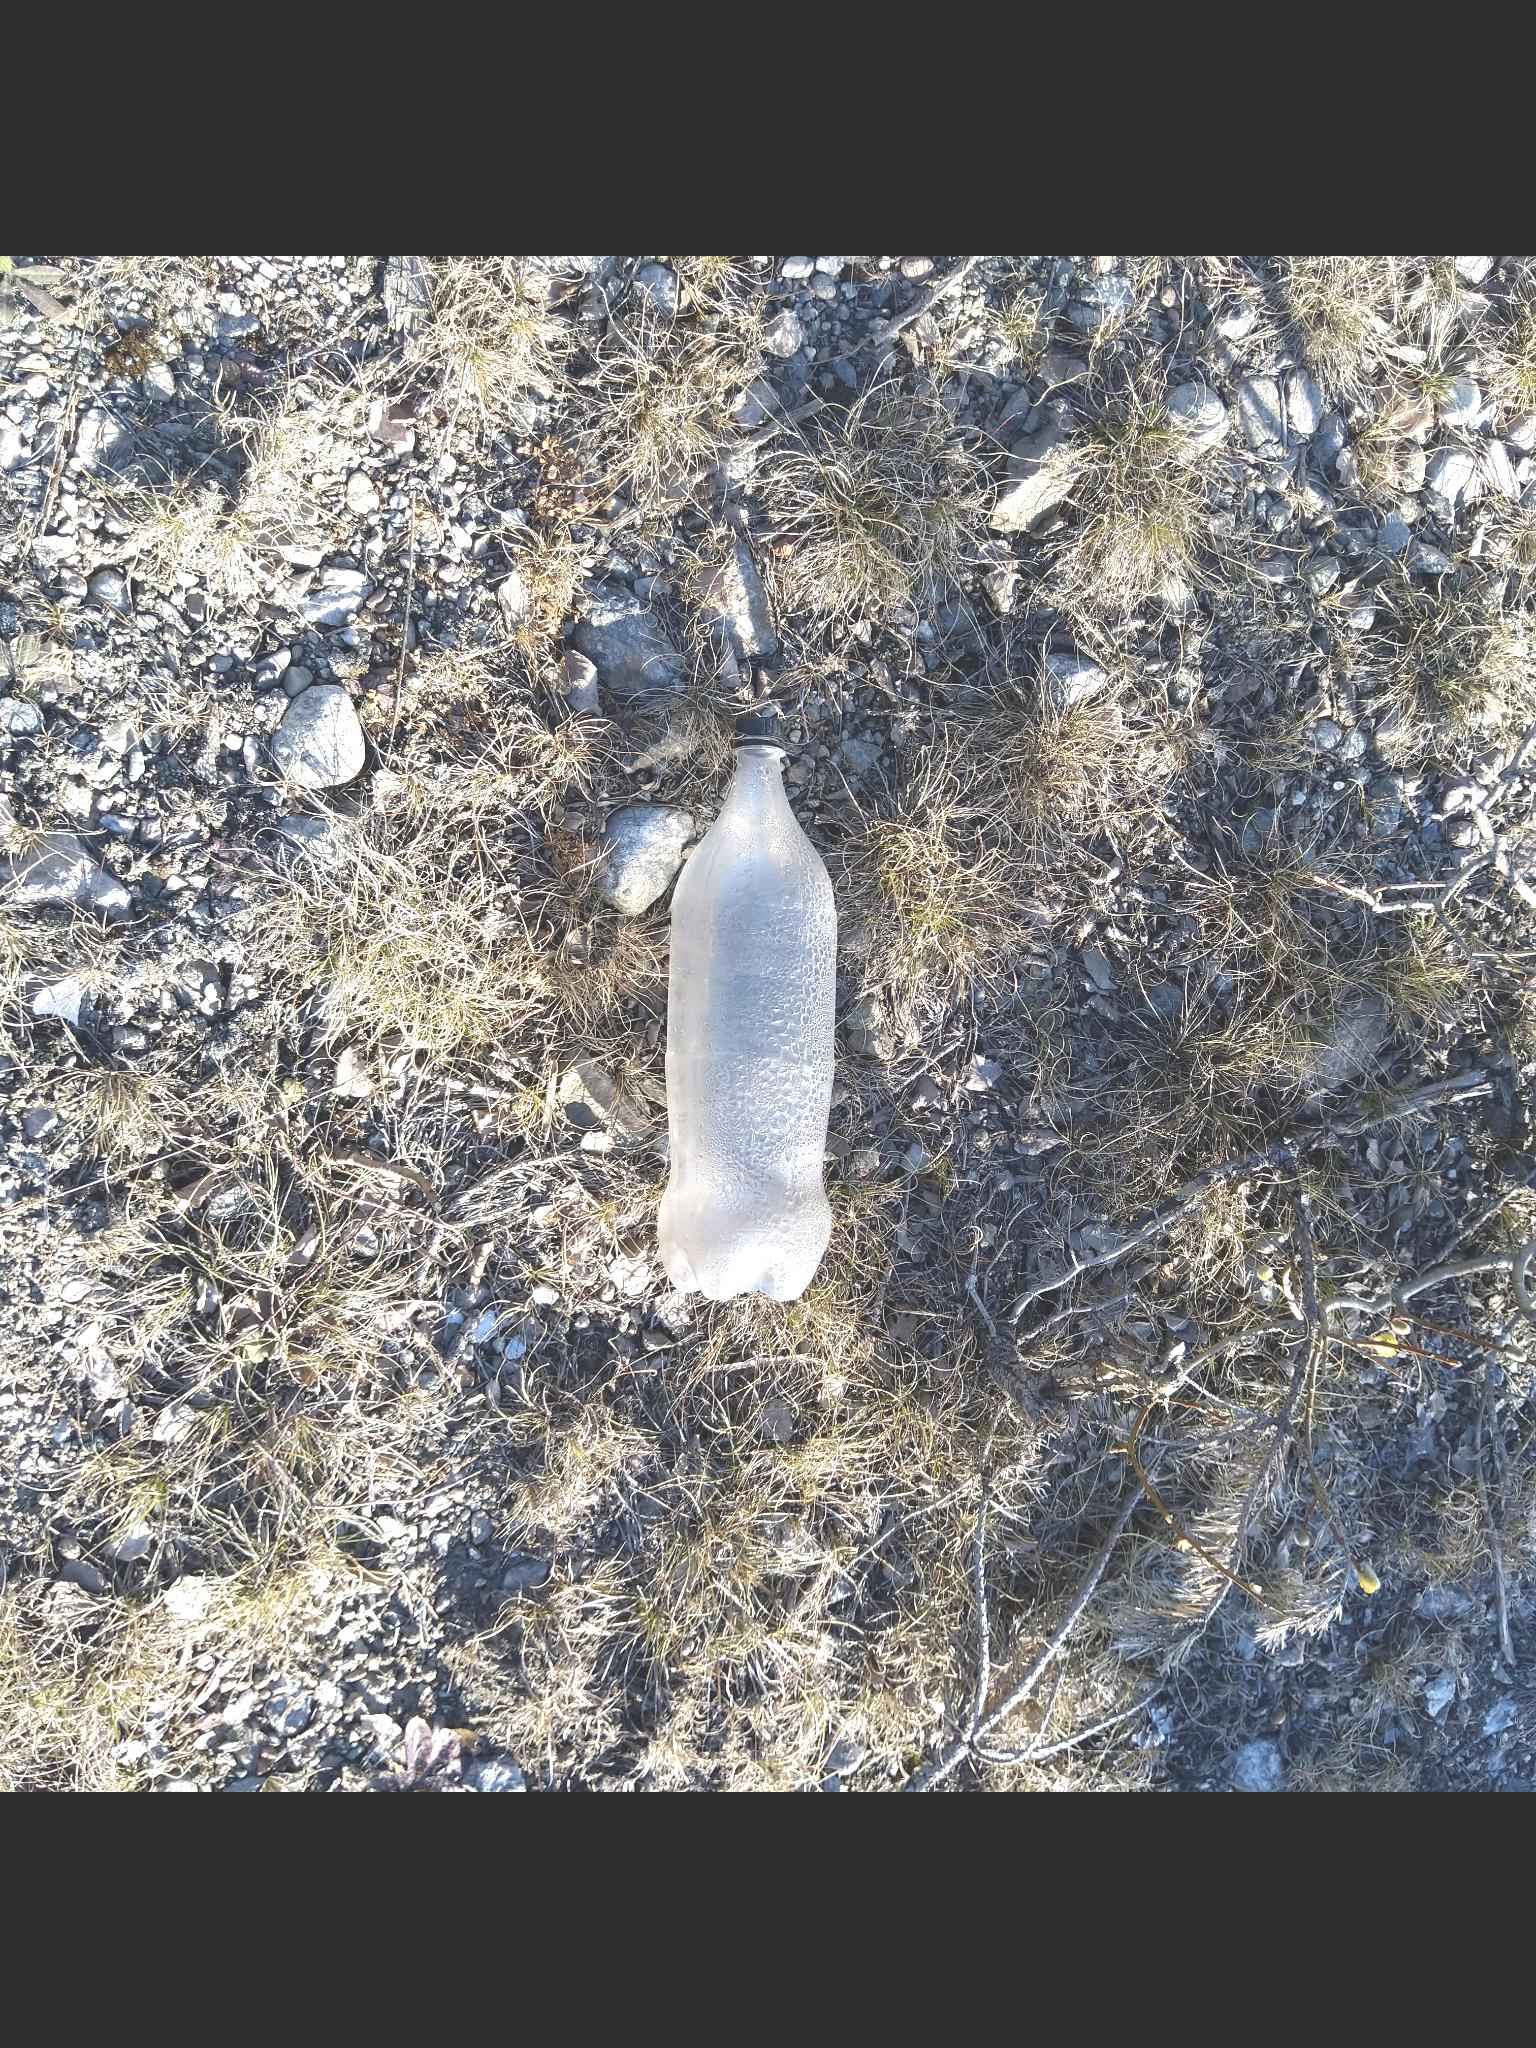bottle: (624, 689, 862, 1317)
